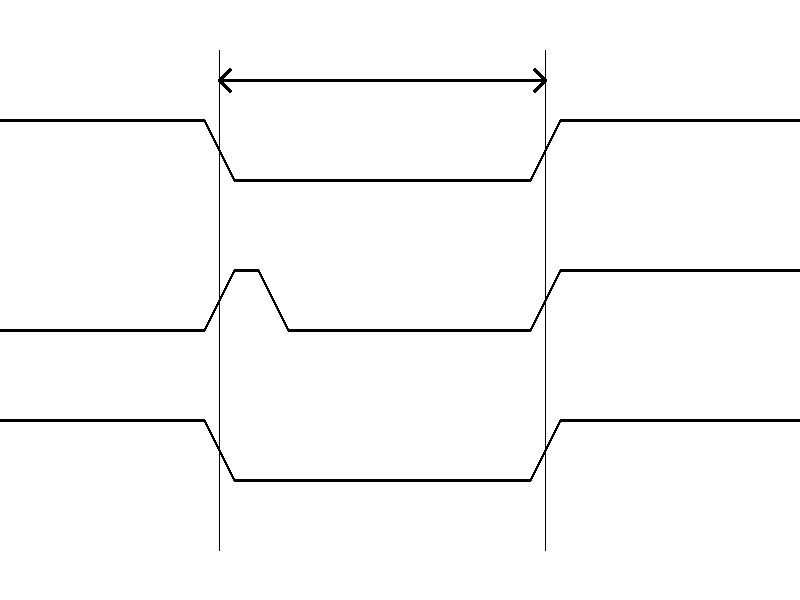double_arrow: (219, 65, 545, 95)
